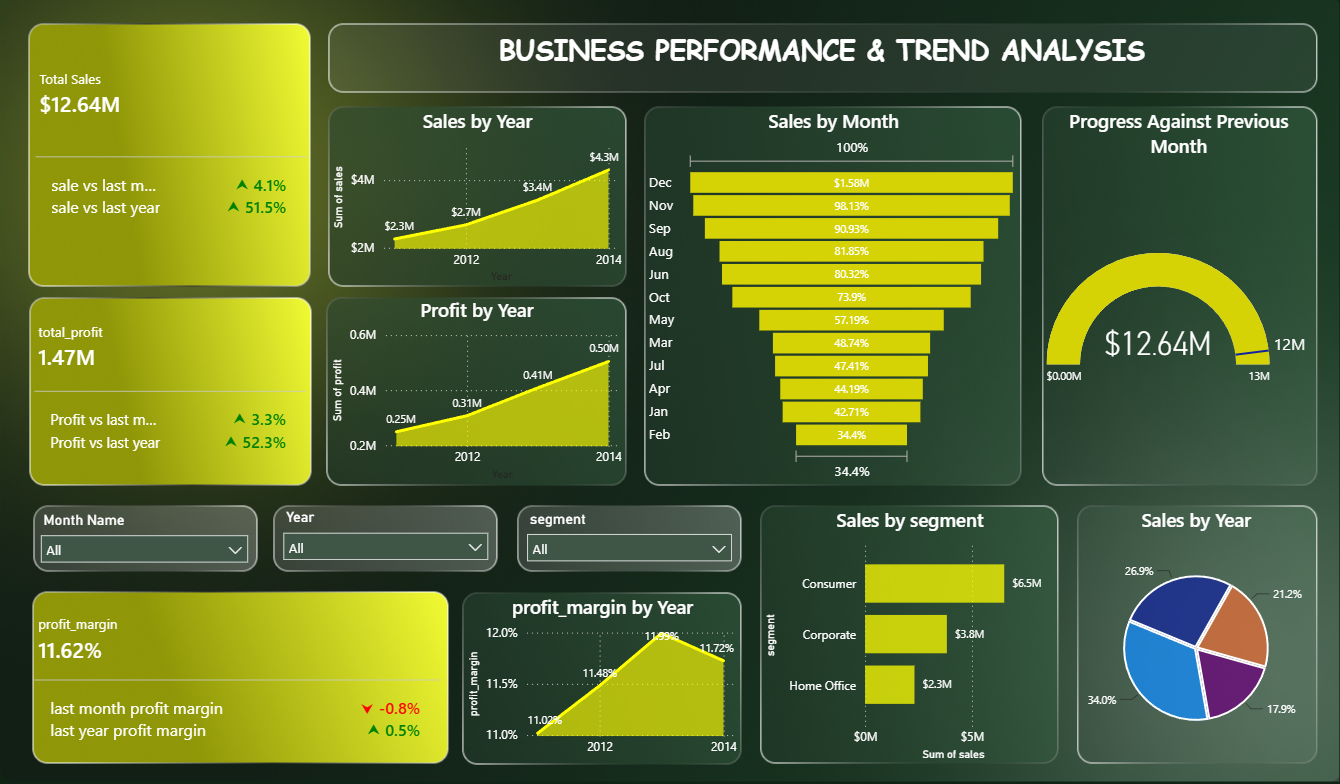

Layout of this report page (visuals, bound fields, positions):
{"tool":"powerbi","page":{"name":"BUSINESS PERFORMANCE & TREND ANALYSIS","canvas":[1342,786],"ordinal":1},"visuals":[{"type":"cardVisual","fields":{"Data":["Sum(SuperStoreOrders csv.sales)"]},"box":[32.5,26.2,281.2,262.5],"z":0},{"type":"cardVisual","fields":{"Data":["SuperStoreOrders csv.total_profit"]},"box":[31.2,297.5,282.5,188.8],"z":1000},{"type":"slicer","fields":{"Values":["DateTable.Month Name"]},"box":[32.5,507.5,227.5,66.2],"z":2000},{"type":"slicer","fields":{"Values":["DateTable.Year"]},"box":[275,505,225,66.2],"z":3000},{"type":"areaChart","title":"Sales by Year","fields":{"Y":["Sum(SuperStoreOrders csv.sales)"],"Category":["DateTable.Year"]},"box":[330,108.8,298.8,180],"z":4000},{"type":"areaChart","title":"Profit by Year","fields":{"Category":["DateTable.Year"],"Y":["Sum(SuperStoreOrders csv.profit)"]},"box":[328.8,297.5,300,188.8],"z":5000},{"type":"cardVisual","fields":{"Data":["SuperStoreOrders csv.profit_margin"]},"box":[31.2,595,416.2,171.2],"z":6000},{"type":"areaChart","fields":{"Category":["DateTable.Year"],"Y":["SuperStoreOrders csv.profit_margin"]},"box":[465,595,278.8,171.2],"z":7000},{"type":"clusteredBarChart","title":"Sales by segment","fields":{"Category":["SuperStoreOrders csv.segment"],"Y":["Sum(SuperStoreOrders csv.sales)"]},"box":[762.5,507.5,298.8,258.8],"z":8000},{"type":"funnel","title":"Sales by Month ","fields":{"Y":["Sum(SuperStoreOrders csv.sales)"],"Category":["DateTable.Month Name"]},"box":[646.2,108.8,378.8,377.5],"z":9000},{"type":"slicer","fields":{"Values":["SuperStoreOrders csv.segment"]},"box":[518.8,506.2,225,66.2],"z":10000},{"type":"pieChart","title":"Sales by Year","fields":{"Category":["DateTable.Year"],"Y":["Sum(SuperStoreOrders csv.sales)"]},"box":[1077.5,507.5,241.2,258.8],"z":11000},{"type":"gauge","title":"Progress Against Previous Month","fields":{"Y":["Sum(SuperStoreOrders csv.sales)"],"TargetValue":["DateTable.sale_last_month"],"MaxValue":["DateTable.Gauge Max"]},"box":[1043.8,108.8,273.8,376.2],"z":12000},{"type":"textbox","box":[330,26.2,987.5,66.2],"z":13000}]}

Visuals, with their boxes in screenshot pixels (x1, y1, x2, y2), scaled from the page's 1342x786 canvas onto the 1340x784 screenshot:
cardVisual - Sum(SuperStoreOrders csv.sales): [32, 26, 313, 288]
cardVisual - SuperStoreOrders csv.total_profit: [31, 297, 313, 485]
slicer - DateTable.Month Name: [32, 506, 260, 572]
slicer - DateTable.Year: [275, 504, 499, 570]
"Sales by Year" areaChart: [330, 109, 628, 288]
"Profit by Year" areaChart: [328, 297, 628, 485]
cardVisual - SuperStoreOrders csv.profit_margin: [31, 593, 447, 764]
areaChart - DateTable.Year x SuperStoreOrders csv.profit_margin: [464, 593, 743, 764]
"Sales by segment" clusteredBarChart: [761, 506, 1060, 764]
"Sales by Month " funnel: [645, 109, 1023, 485]
slicer - SuperStoreOrders csv.segment: [518, 505, 743, 571]
"Sales by Year" pieChart: [1076, 506, 1317, 764]
"Progress Against Previous Month" gauge: [1042, 109, 1316, 484]
textbox: [330, 26, 1316, 92]
